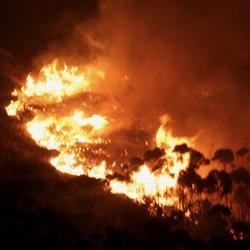fire: (32, 113, 109, 144), (22, 63, 86, 98), (124, 166, 178, 202), (52, 152, 87, 174), (95, 162, 104, 180)
